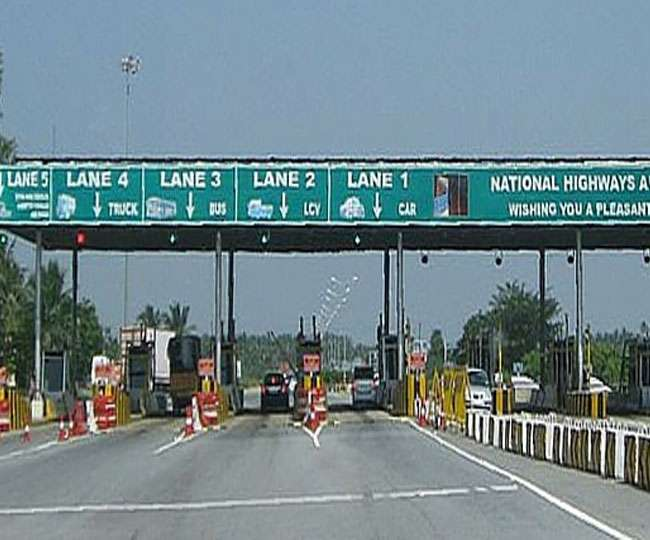toll plaza: (5, 143, 650, 265), (95, 308, 624, 410)
